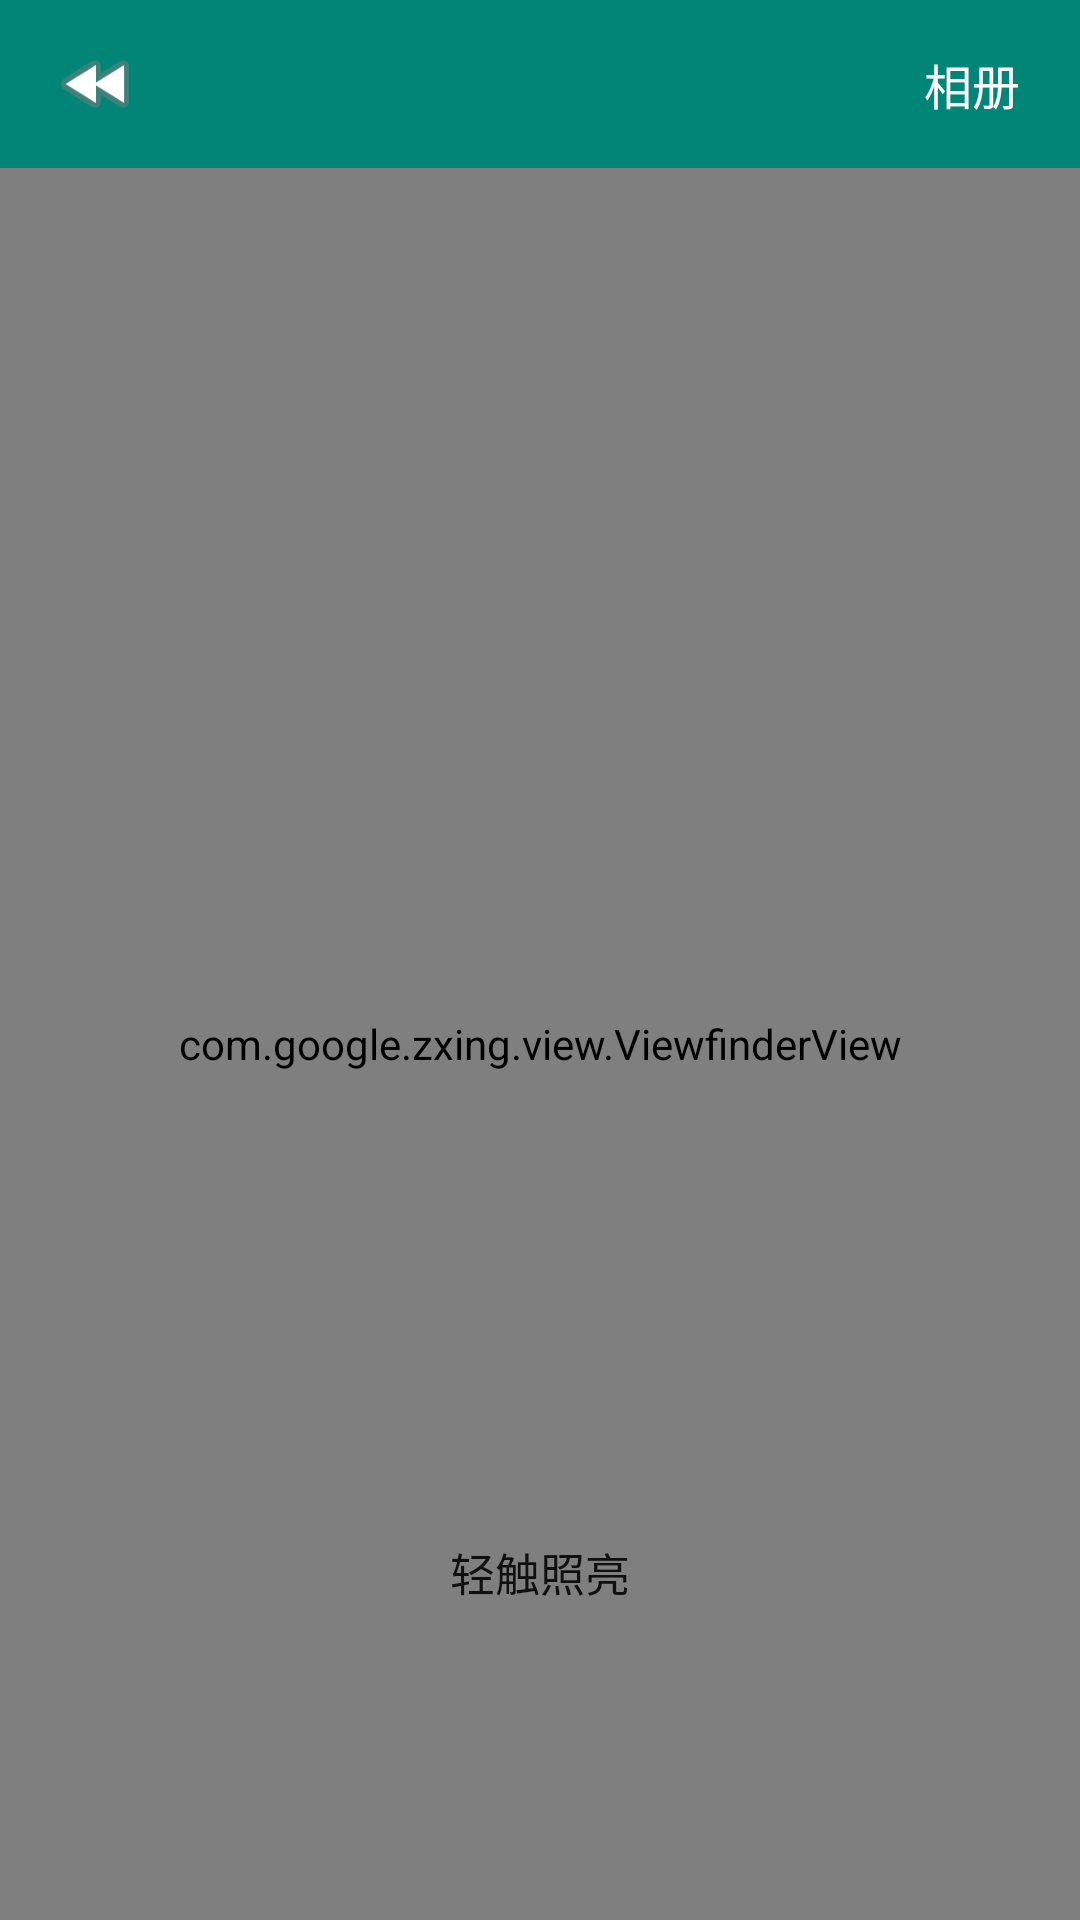

Icons on this 1080x1920 Android screen, each with the point to tap as (x=x, y=y):
rew: (x=95, y=84)
